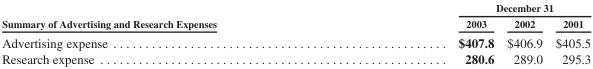table: (1, 1, 590, 65)
table column: (1, 1, 336, 65), (336, 1, 499, 65), (499, 1, 548, 65), (548, 1, 590, 65)
table column header: (1, 1, 590, 32)
table row: (1, 32, 590, 50), (1, 15, 590, 32), (1, 50, 590, 65), (1, 1, 590, 15)
table spanning cell: (1, 1, 336, 32), (336, 1, 590, 15)
